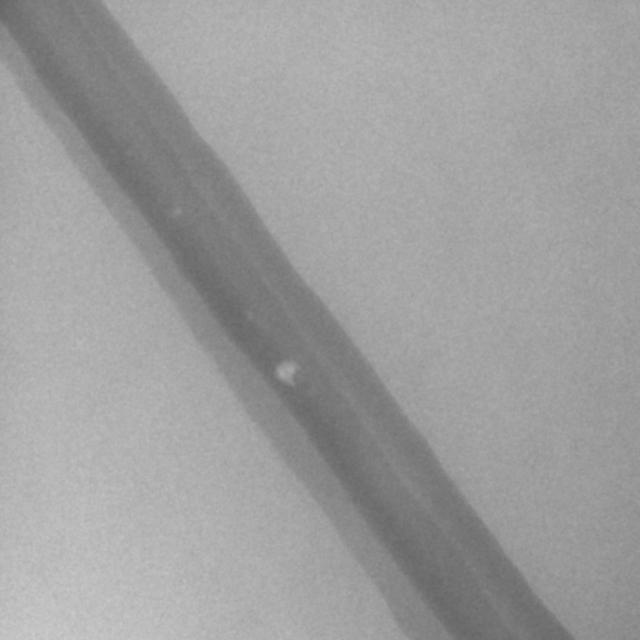air hole: (172, 205, 183, 216)
slag inclusion: (275, 361, 297, 384)
